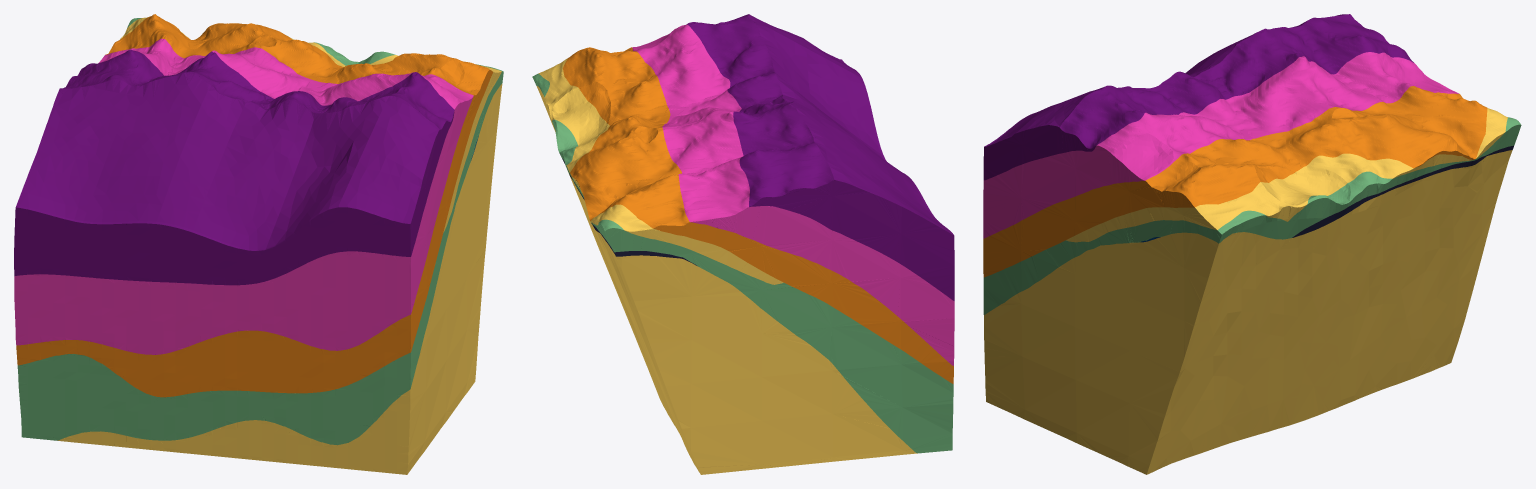
Rendered from demo.glb.
3 views of the same model, side by side, from view 1: azimuth 30°, elevation 25°; view 2: azimuth 150°, elevation 25°; view 3: azimuth 270°, elevation 25° (orthographic). The views are drawn at different scales.
Visible parts, largest first — view 1: IDLgrVolumn: (×6); view 2: IDLgrVolumn: (×6); view 3: IDLgrVolumn: (×7).
Part boxes in pixels (<box>): IDLgrVolumn: (×6): <box>14,14,503,474</box>; IDLgrVolumn: (×6): <box>532,14,954,474</box>; IDLgrVolumn: (×7): <box>983,14,1521,474</box>.
Size of the model in its own units: 1182 by 790 by 1154.
